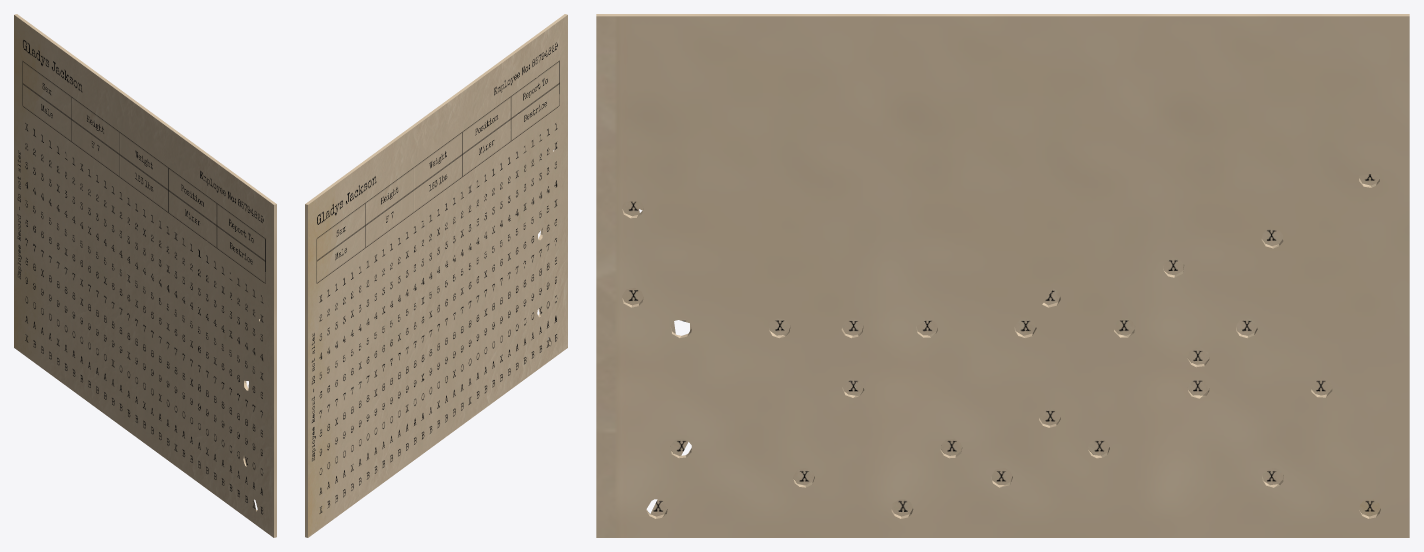
The model's file is employeeCard08Aadi.fbx.
3 views of the same model, side by side, from view 1: azimuth 30°, elevation 25°; view 2: azimuth 150°, elevation 25°; view 3: azimuth 270°, elevation 25° (orthographic). The views are drawn at different scales.
Visible parts, largest first — view 1: Employee 08 Card Puzzle Punched; view 2: Employee 08 Card Puzzle Punched; view 3: Employee 08 Card Puzzle Punched.
Boxes of the visible parts, x1,y1,x2,y2 form: Employee 08 Card Puzzle Punched: (14,14,276,537); Employee 08 Card Puzzle Punched: (305,14,567,537); Employee 08 Card Puzzle Punched: (596,14,1409,537).
Bounding box in the file's own units: 0.9779 × 100 × 141.
1 material, 1 textured.
